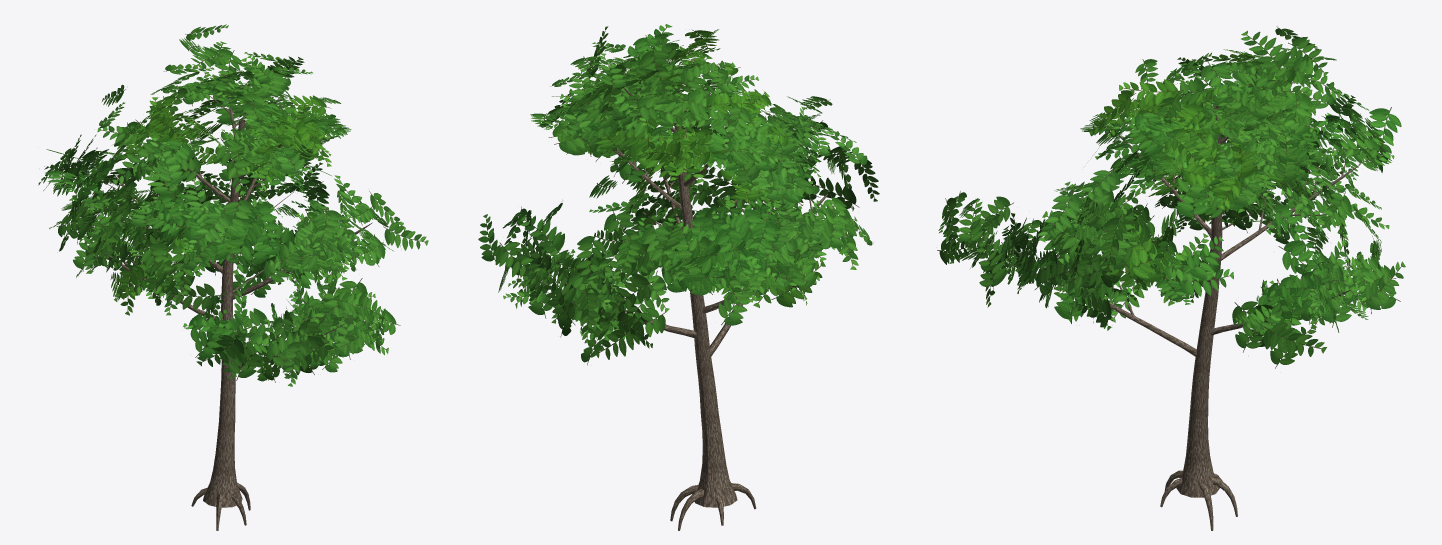
The model's file is copa_c.glb.
3 views of the same model, side by side, from view 1: azimuth 30°, elevation 25°; view 2: azimuth 150°, elevation 25°; view 3: azimuth 270°, elevation 25° (orthographic). The views are drawn at different scales.
Parts seen in each view (by area): view 1: copa_c; view 2: copa_c; view 3: copa_c.
Boxes of the visible parts, x1,y1,x2,y2 form: copa_c: [38, 24, 428, 530]; copa_c: [478, 24, 879, 530]; copa_c: [937, 26, 1405, 530].
Bounding box in the file's own units: 7.85 × 10.54 × 9.81.
2 materials, 2 textured.
